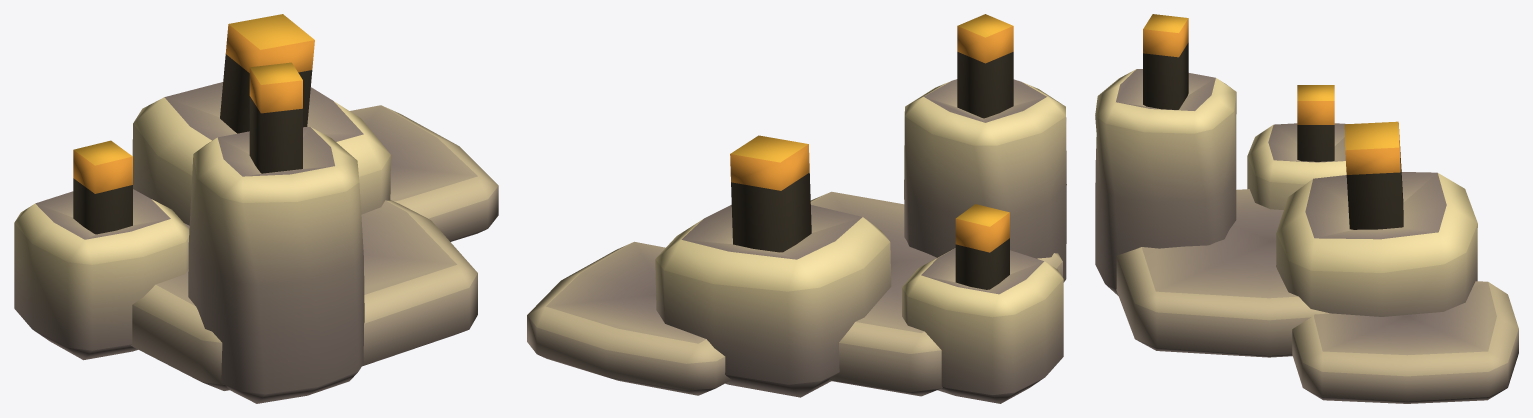
File: candle_arrangement_3_LOD_setup.fbx
The picture shows the model from 3 angles, left to right: view 1: azimuth 30°, elevation 25°; view 2: azimuth 150°, elevation 25°; view 3: azimuth 270°, elevation 25°; orthographic projection. The views are drawn at different scales.
Visible parts, largest first — view 1: candle_arrangement_3_LOD0; view 2: candle_arrangement_3_LOD0; view 3: candle_arrangement_3_LOD0.
Boxes of the visible parts, box(x1,y1,x2,y2) form: candle_arrangement_3_LOD0: box(14, 14, 498, 403); candle_arrangement_3_LOD0: box(527, 14, 1066, 403); candle_arrangement_3_LOD0: box(1095, 14, 1518, 403).
Size of what is drawn, in the model's own units: 71.66 by 42.68 by 64.3.
